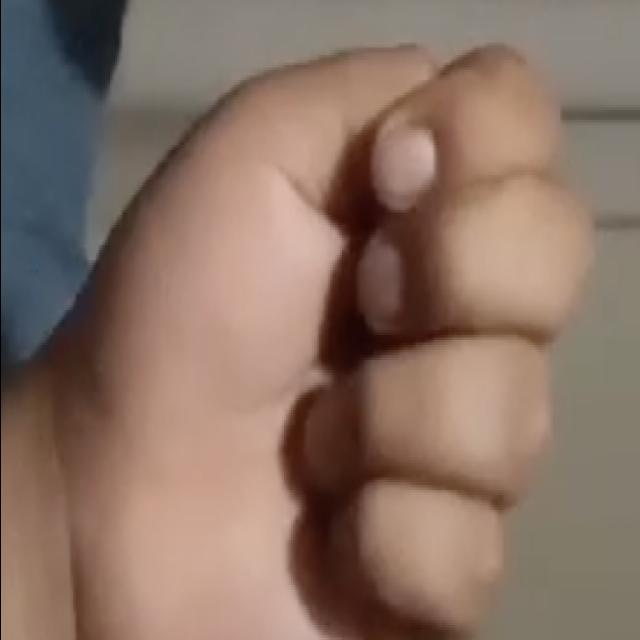S: (64, 34, 596, 636)
